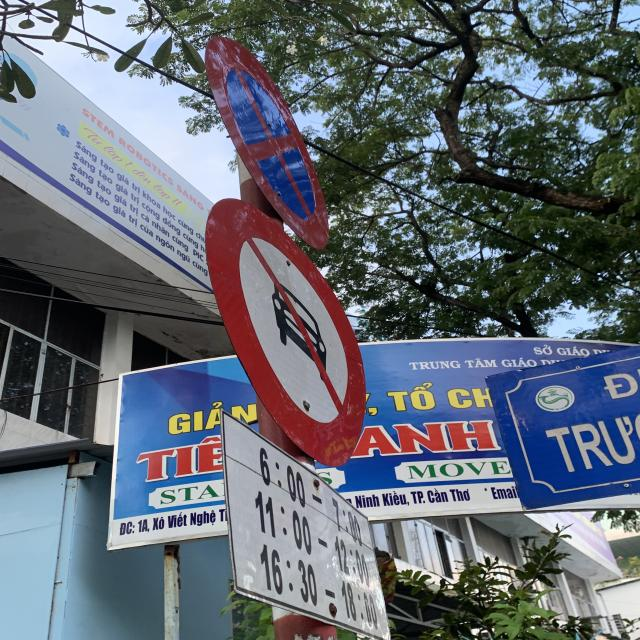Cam_Dung_Va_Dau_Xe: (206, 32, 332, 249)
Cam_O_To: (201, 200, 363, 468)
